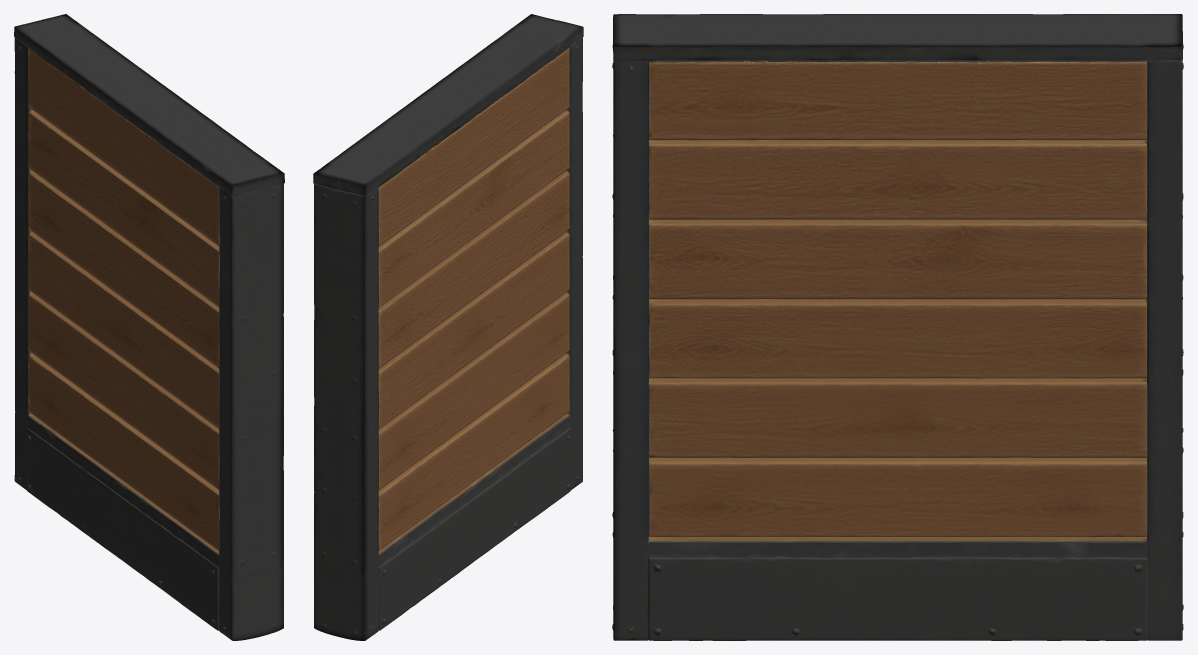
File: panel_slat.glb
3 renders of one model, left to right at view 1: azimuth 30°, elevation 25°; view 2: azimuth 150°, elevation 25°; view 3: azimuth 270°, elevation 25°, orthographic. The views are drawn at different scales.
Visible parts, largest first — view 1: tripo_node_95089fe0-1304-4773-88dd-1d3d346eb88b; view 2: tripo_node_95089fe0-1304-4773-88dd-1d3d346eb88b; view 3: tripo_node_95089fe0-1304-4773-88dd-1d3d346eb88b.
Part boxes in pixels (left/top/right/bottom): tripo_node_95089fe0-1304-4773-88dd-1d3d346eb88b: left=14, top=14, right=284, bottom=640; tripo_node_95089fe0-1304-4773-88dd-1d3d346eb88b: left=313, top=14, right=583, bottom=640; tripo_node_95089fe0-1304-4773-88dd-1d3d346eb88b: left=612, top=14, right=1183, bottom=640.
Bounding box in the file's own units: 0.2422 × 1.8 × 1.56.
1 material, 1 textured.
